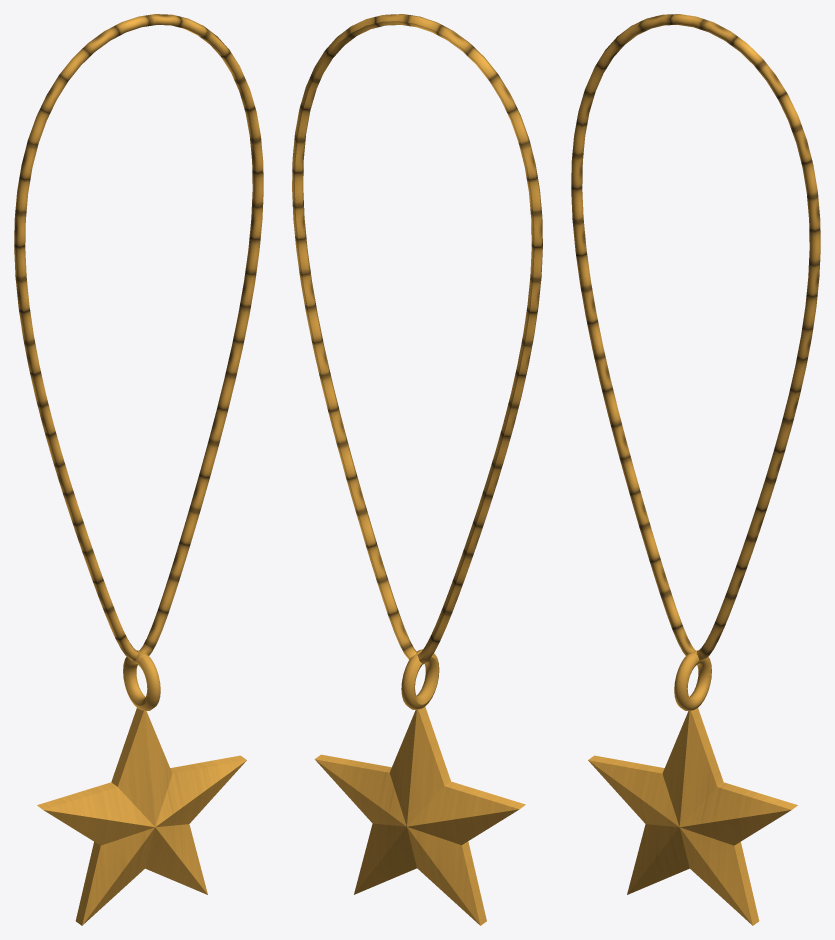
File: PolishedStarAmulet.glb
3 renders of one model, left to right at view 1: azimuth 30°, elevation 25°; view 2: azimuth 150°, elevation 25°; view 3: azimuth 330°, elevation 25°, orthographic.
Visible parts, largest first — view 1: PolishedStarAmulet; view 2: PolishedStarAmulet; view 3: PolishedStarAmulet.
Boxes of the visible parts, bbox=[...] form: PolishedStarAmulet: bbox=[14, 14, 263, 925]; PolishedStarAmulet: bbox=[292, 14, 542, 925]; PolishedStarAmulet: bbox=[571, 14, 820, 925].
Size of the model in its own units: 0.5321 by 1.82 by 0.116.
1 material, 1 textured.
